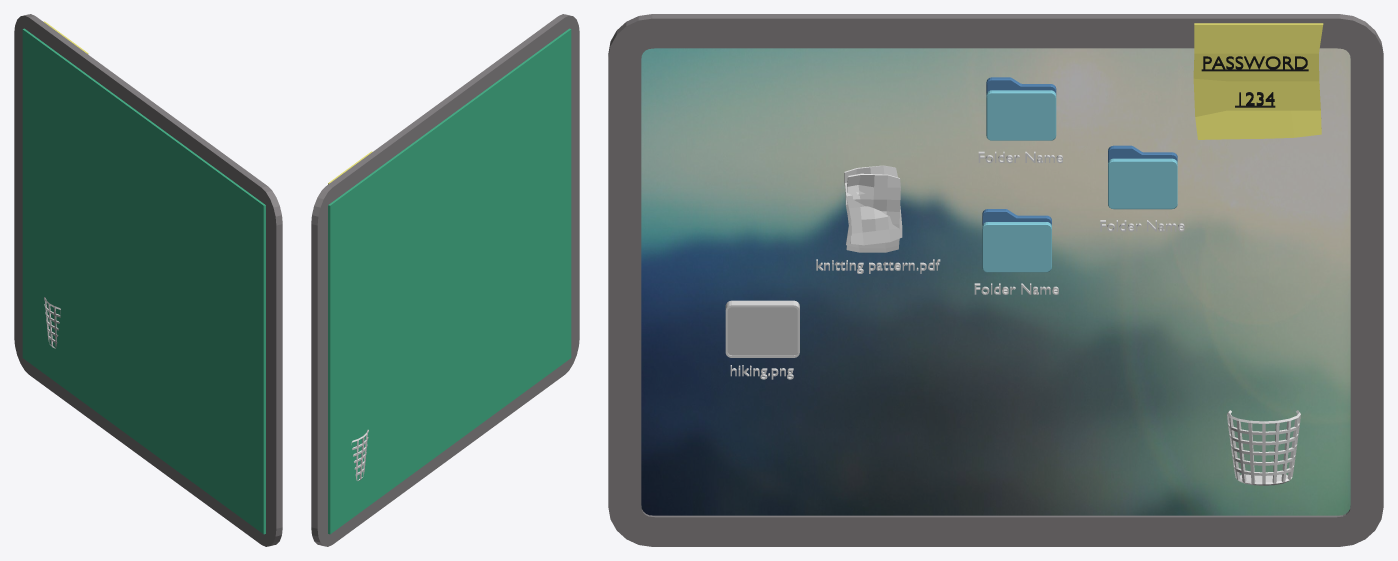
File: DesktopScreen.fbx
The picture shows the model from 3 angles, left to right: view 1: azimuth 30°, elevation 25°; view 2: azimuth 150°, elevation 25°; view 3: azimuth 270°, elevation 25°; orthographic projection. The views are drawn at different scales.
Parts seen in each view (by area): view 1: Screen_2, Monitor, Cylinder; view 2: Screen_2, Monitor, Cylinder; view 3: BlurryWallpaper, Monitor, Memo, DocumentIcon_2, FolderIcon_2.001, FolderIcon_2, FolderIcon_2.002, Together, Cylinder, Password, ImageIcon_2.
Boxes of the visible parts, <box> form: Screen_2: <box>22,28,265,534</box>; Monitor: <box>14,14,282,546</box>; Cylinder: <box>44,297,60,348</box>; Screen_2: <box>328,28,571,534</box>; Monitor: <box>311,14,579,546</box>; Cylinder: <box>351,429,368,481</box>; BlurryWallpaper: <box>641,48,1350,515</box>; Monitor: <box>608,14,1383,546</box>; Memo: <box>1193,23,1323,139</box>; DocumentIcon_2: <box>844,165,902,252</box>; FolderIcon_2.001: <box>1108,145,1177,209</box>; FolderIcon_2: <box>986,77,1056,140</box>; FolderIcon_2.002: <box>982,209,1051,272</box>; Together: <box>727,307,797,355</box>; Cylinder: <box>1227,410,1300,485</box>; Password: <box>1201,56,1308,107</box>; ImageIcon_2: <box>725,300,799,357</box>.
Size of the model in its own units: 169 by 2173 by 2891.
